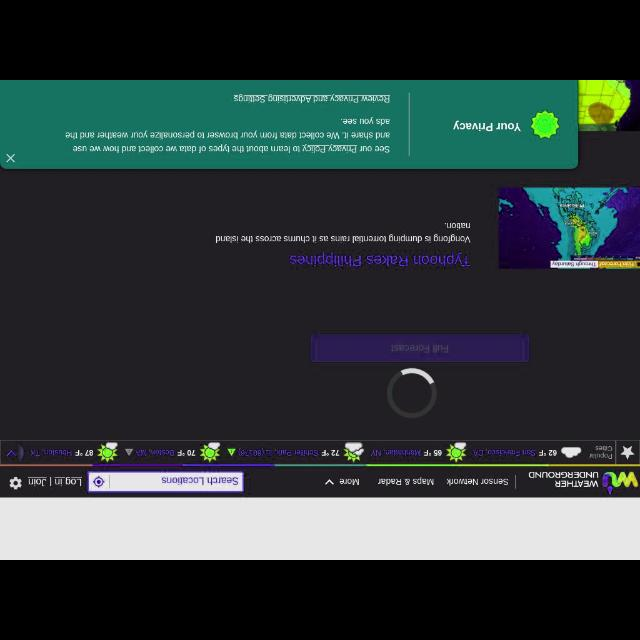button: (88, 472, 110, 490)
icon: (620, 445, 634, 459), (8, 476, 22, 489), (4, 152, 16, 164), (94, 476, 104, 488), (324, 478, 334, 486), (7, 449, 15, 456)
image: (498, 187, 640, 269), (578, 80, 638, 130), (531, 110, 559, 140), (603, 470, 637, 494), (96, 442, 120, 461), (343, 438, 362, 462), (448, 441, 467, 462), (201, 443, 219, 462), (560, 444, 582, 456)
input: (111, 471, 243, 492)
text: (65, 116, 389, 154), (215, 219, 471, 243), (289, 250, 471, 270), (234, 95, 390, 104), (530, 469, 598, 487), (236, 447, 340, 457), (160, 476, 240, 488), (452, 121, 522, 132), (370, 447, 442, 457), (389, 342, 448, 354), (472, 448, 558, 456), (446, 477, 508, 487), (134, 447, 196, 457), (378, 476, 434, 486), (30, 450, 94, 458), (54, 476, 82, 488), (590, 446, 612, 460), (28, 476, 48, 488), (339, 476, 361, 486)
textbutton: (310, 336, 530, 360)
toolbar: (1, 464, 639, 498)
